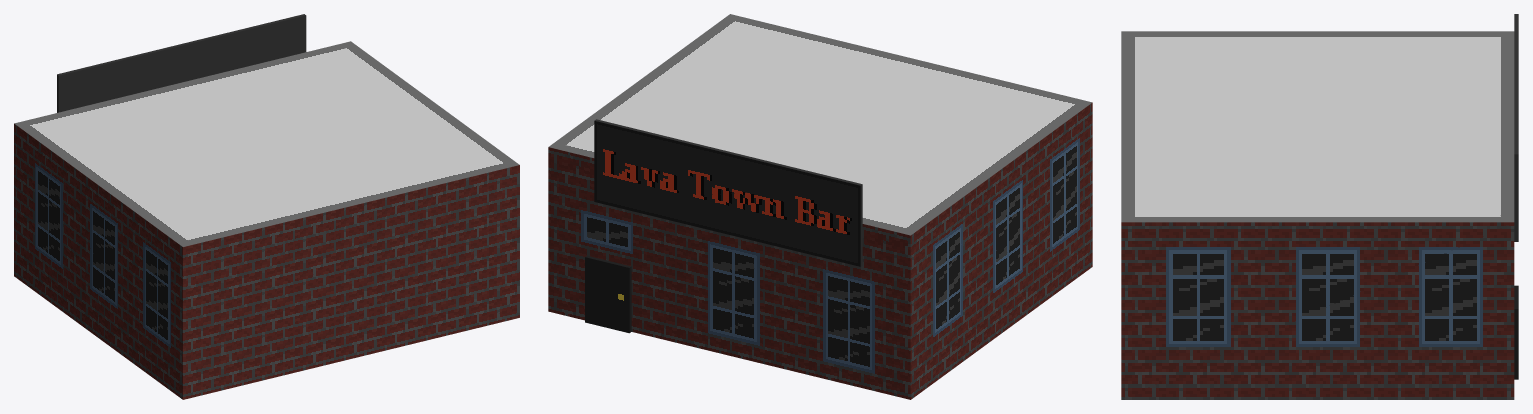
The model's file is Lava town bar.gltf.
3 renders of one model, left to right at view 1: azimuth 30°, elevation 25°; view 2: azimuth 150°, elevation 25°; view 3: azimuth 270°, elevation 25°, orthographic. The views are drawn at different scales.
Parts seen in each view (by area): view 1: cuboid; view 2: cuboid; view 3: cuboid.
Part boxes in pixels (x1,y1,x2,y2): cuboid: (14,14,519,399); cuboid: (548,14,1092,399); cuboid: (1121,14,1518,399).
Size of the model in its own units: 8.25 by 4.44 by 7.25.
Materials: 1 (1 with a texture image).
